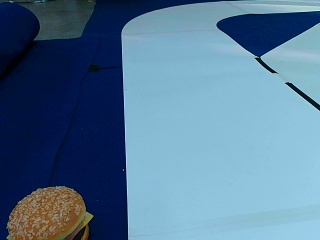burger: (8, 185, 91, 238)
